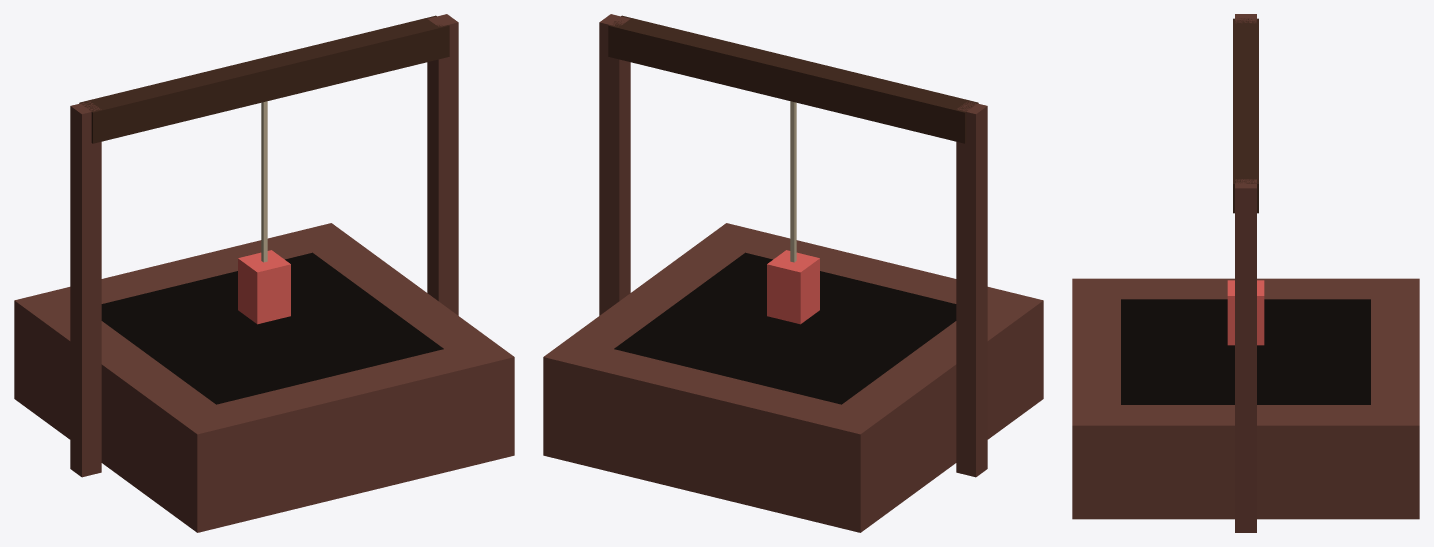
The model's file is poco_balde.glb.
The picture shows the model from 3 angles, left to right: view 1: azimuth 30°, elevation 25°; view 2: azimuth 150°, elevation 25°; view 3: azimuth 270°, elevation 25°; orthographic projection. The views are drawn at different scales.
Visible parts, largest first — view 1: Malha_0; view 2: Malha_0; view 3: Malha_0.
Boxes of the visible parts, x1=… form: Malha_0: x1=14, y1=14, x2=514, y2=532; Malha_0: x1=543, y1=14, x2=1043, y2=532; Malha_0: x1=1072, y1=14, x2=1419, y2=532.
Bounding box in the file's own units: 3.8 × 3.5 × 3.2.
